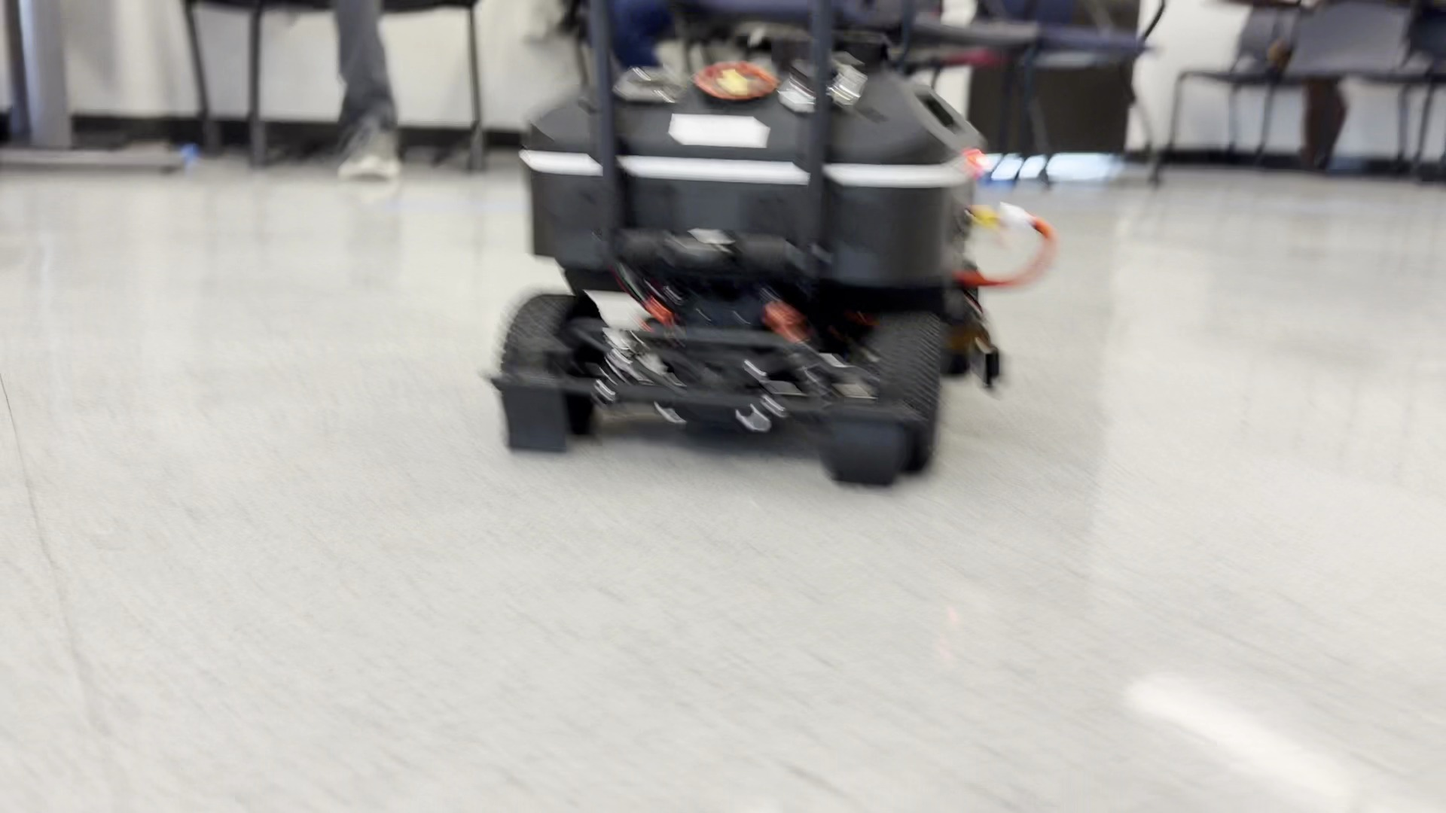racecar: (488, 4, 1049, 491)
